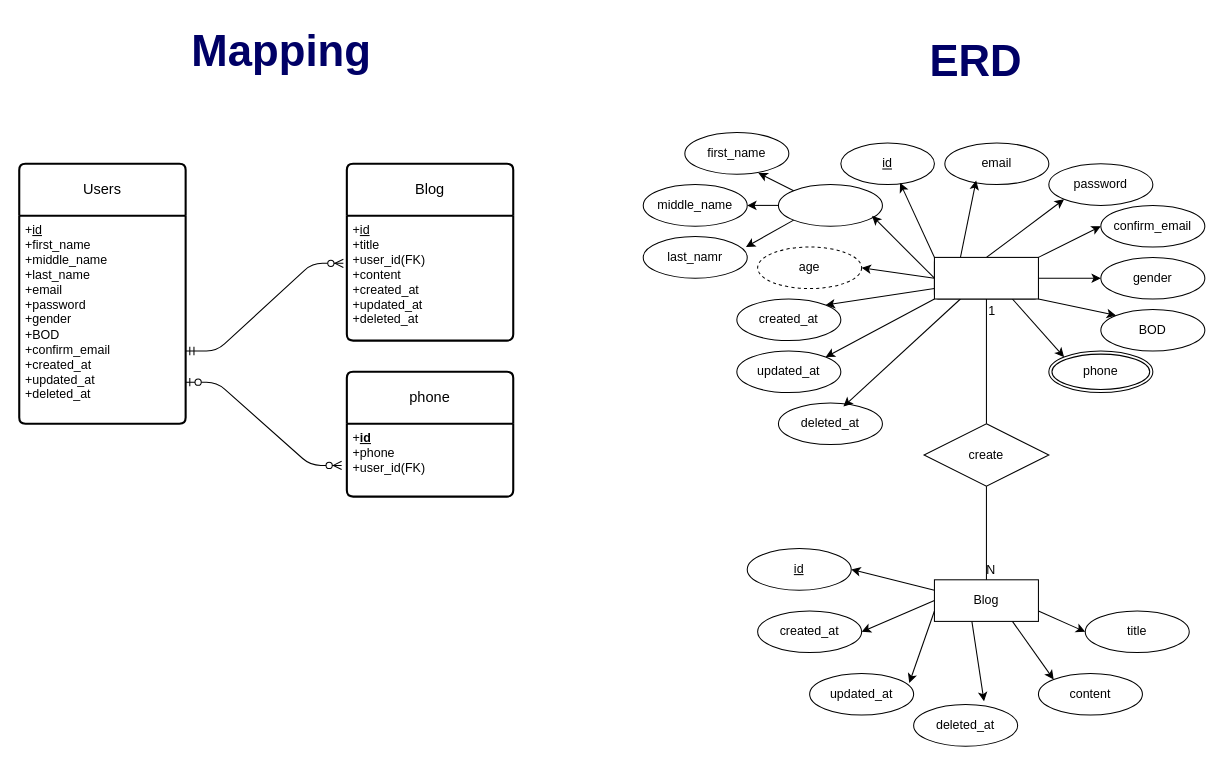
This 1223x764 diagram has some shape labels left out. The centre of each missing label's shape, as x and y in pixels:
"Entity" goes at point 985,277.
"name" goes at point 829,205.
